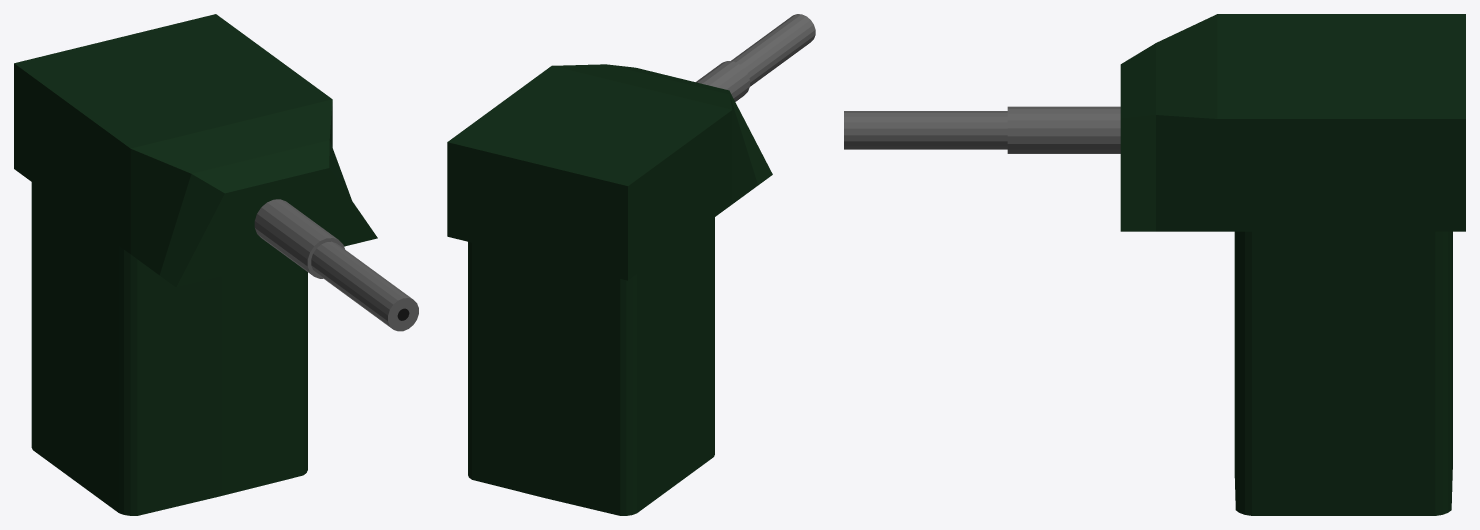
Rendered from torreta_policial.fbx.
3 renders of one model, left to right at view 1: azimuth 30°, elevation 25°; view 2: azimuth 150°, elevation 25°; view 3: azimuth 270°, elevation 25°, orthographic. The views are drawn at different scales.
Visible parts, largest first — view 1: torreta_policial; view 2: torreta_policial; view 3: torreta_policial.
Boxes of the visible parts, box(x1,y1,x2,y2) form: torreta_policial: box(14, 14, 418, 515); torreta_policial: box(447, 14, 815, 515); torreta_policial: box(844, 14, 1465, 515).
Bounding box in the file's own units: 69.25 × 124 × 173.
